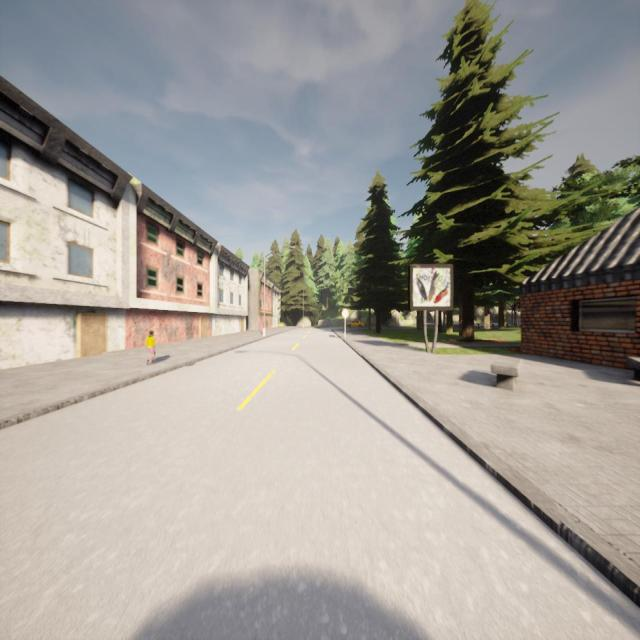Pedestrian: (145, 330, 155, 364)
Traffic_Signs: (342, 308, 348, 318)
Vehicle: (347, 319, 365, 327)
